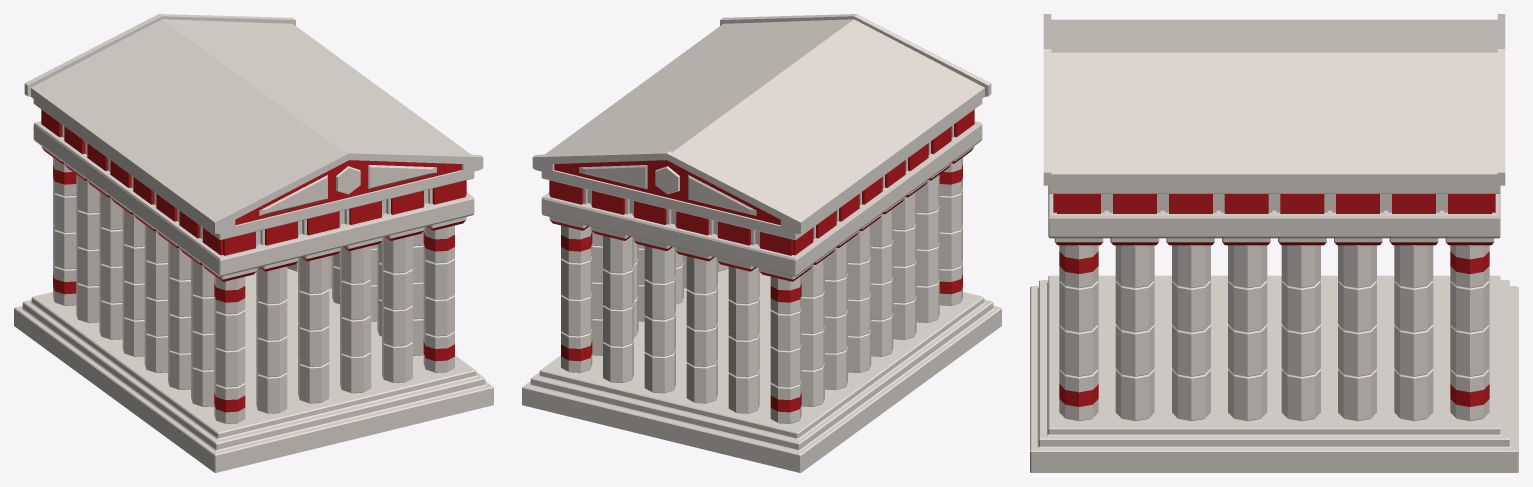
The model's file is Parthenon.fbx.
3 renders of one model, left to right at view 1: azimuth 30°, elevation 25°; view 2: azimuth 150°, elevation 25°; view 3: azimuth 270°, elevation 25°, orthographic. The views are drawn at different scales.
Parts seen in each view (by area): view 1: roof, pillars b, base, cieling, fancy.001, cieling 2, pillar tops; view 2: roof, pillars b, base, cieling, fancy.001, cieling 2, pillar tops; view 3: roof, pillars b, base, cieling, fancy.001, cieling 2, pillar tops.
Boxes of the visible parts, x1,y1,x2,y2 form: roof: (24, 14, 483, 233); pillars b: (53, 157, 454, 423); base: (14, 268, 493, 472); cieling: (33, 121, 474, 276); fancy.001: (41, 109, 466, 255); cieling 2: (33, 99, 474, 240); pillar tops: (41, 146, 466, 281); roof: (532, 14, 991, 233); pillars b: (561, 157, 962, 423); base: (522, 268, 1001, 472); cieling: (541, 121, 982, 276); fancy.001: (549, 109, 974, 255); cieling 2: (541, 99, 982, 240); pillar tops: (549, 146, 974, 281); roof: (1043, 14, 1505, 185); pillars b: (1059, 245, 1489, 421); base: (1030, 275, 1518, 472); cieling: (1048, 193, 1500, 238); fancy.001: (1053, 194, 1495, 213); cieling 2: (1048, 185, 1500, 193); pillar tops: (1054, 238, 1494, 245).
Bounding box in the file's own units: 160 × 154 × 200.
